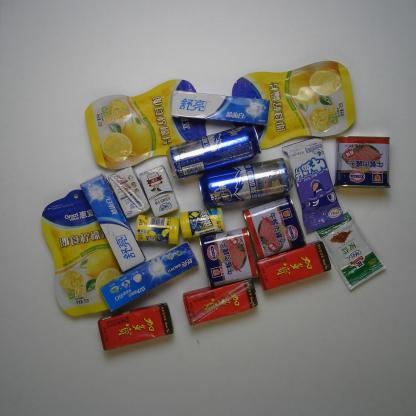Alcohol: (166, 122, 262, 179), (197, 158, 294, 206)
Candy: (282, 134, 344, 233)
Canned Food: (242, 194, 307, 260), (198, 226, 261, 289), (333, 136, 392, 190)
Dried Fruit: (40, 188, 134, 318), (230, 59, 358, 150), (85, 78, 208, 170)
Drink: (96, 303, 175, 352), (255, 241, 332, 290), (181, 279, 258, 326)
Gum: (178, 206, 226, 240), (132, 212, 178, 247)
Milk: (106, 166, 150, 220), (138, 165, 180, 219)
Personal Hygiene: (100, 240, 199, 312), (80, 173, 146, 272), (168, 89, 270, 129)
Seasoner: (312, 210, 386, 291)
